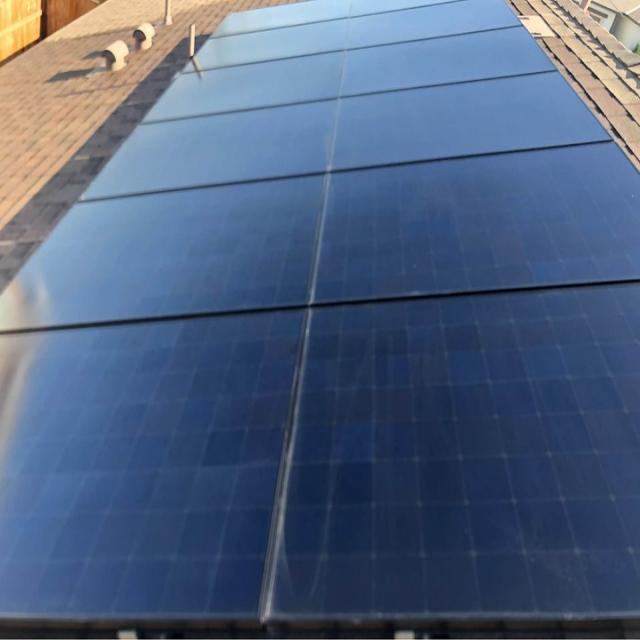no faulty: (270, 287, 635, 613), (0, 310, 312, 622), (3, 177, 328, 328), (315, 147, 640, 297), (328, 75, 613, 178), (82, 103, 335, 202), (352, 22, 553, 94), (147, 53, 345, 118)
